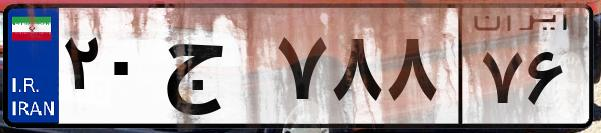0: (110, 28, 158, 98)
2: (57, 26, 110, 100)
6: (525, 38, 570, 115)
7: (270, 28, 330, 110), (475, 38, 525, 113)
8: (385, 28, 445, 110), (330, 28, 385, 110)
ج: (158, 20, 270, 120)
